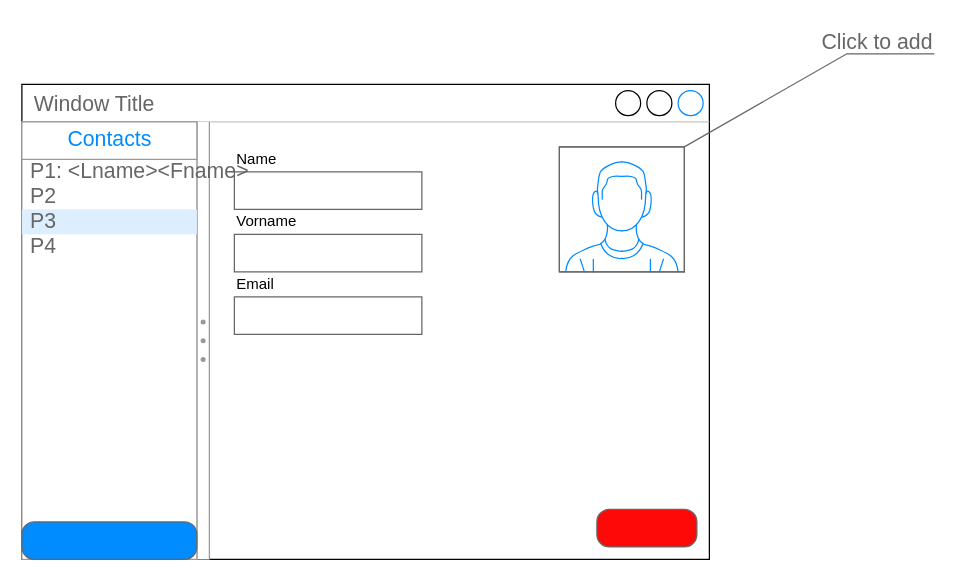
This 956x581 diagram has some shape labels left out. Here are the shapes that lost their labels. From the top down, the centre of each, then its label:
At point 109,540: "Add".
At point 646,527: "Delete".
